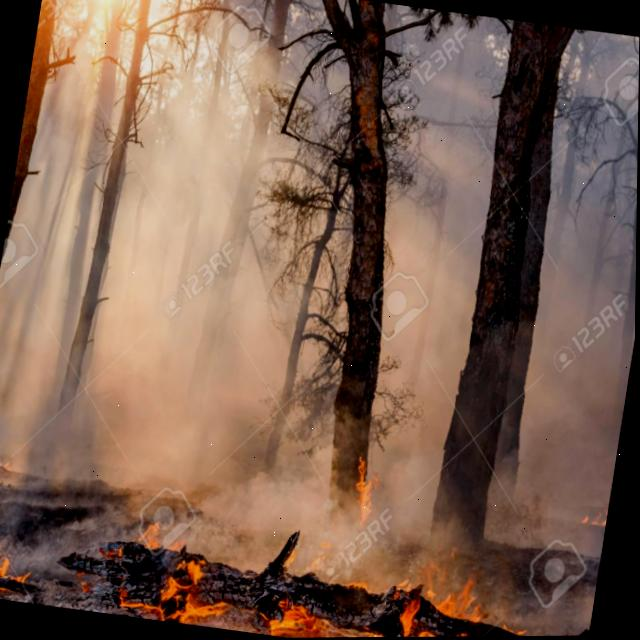fire: (48, 0, 179, 58), (397, 576, 487, 638), (159, 561, 206, 623), (273, 596, 319, 638)
smoke: (0, 0, 640, 619)
